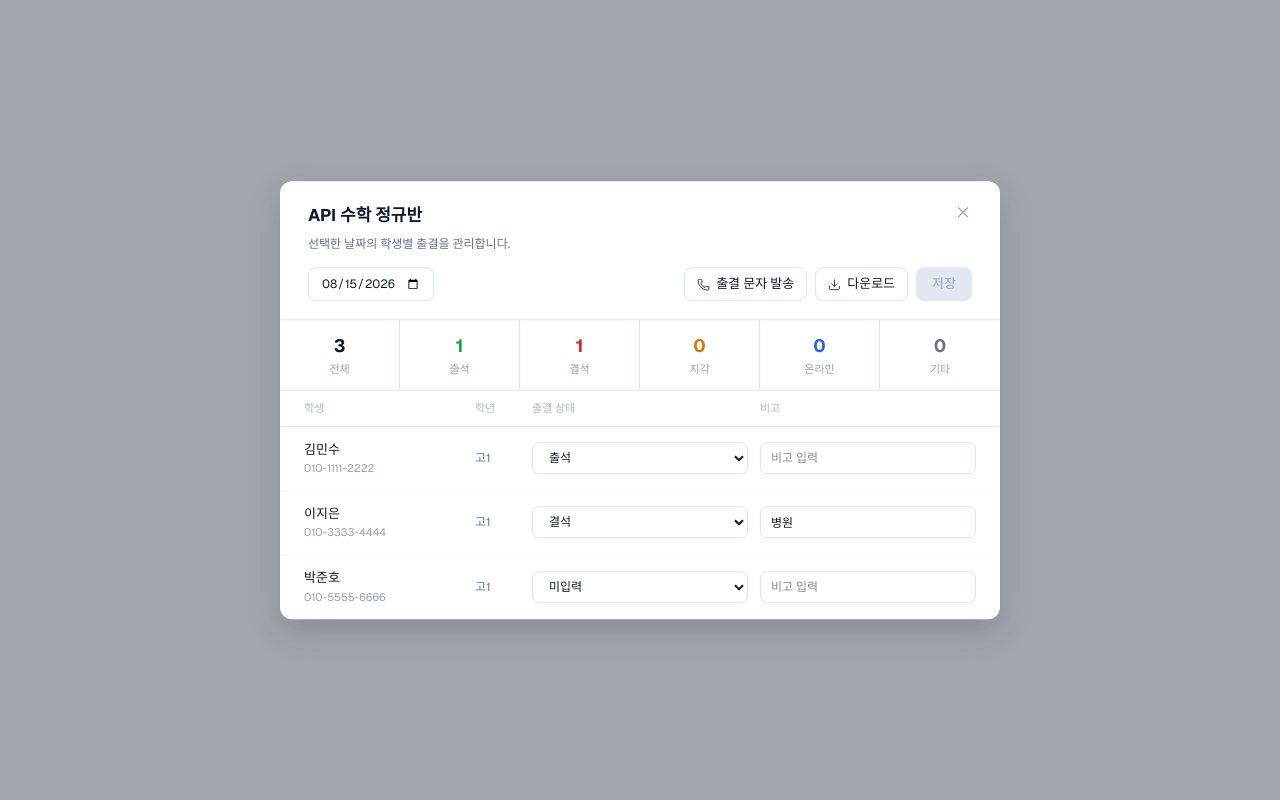
it: ViewRollbookModal › 값을 원본으로 되돌리면 저장 대상에서 제외한다
Select "지각" in the dropdown named "김민수 출결 상태" at (640, 458), box 532,442 -> 748,474
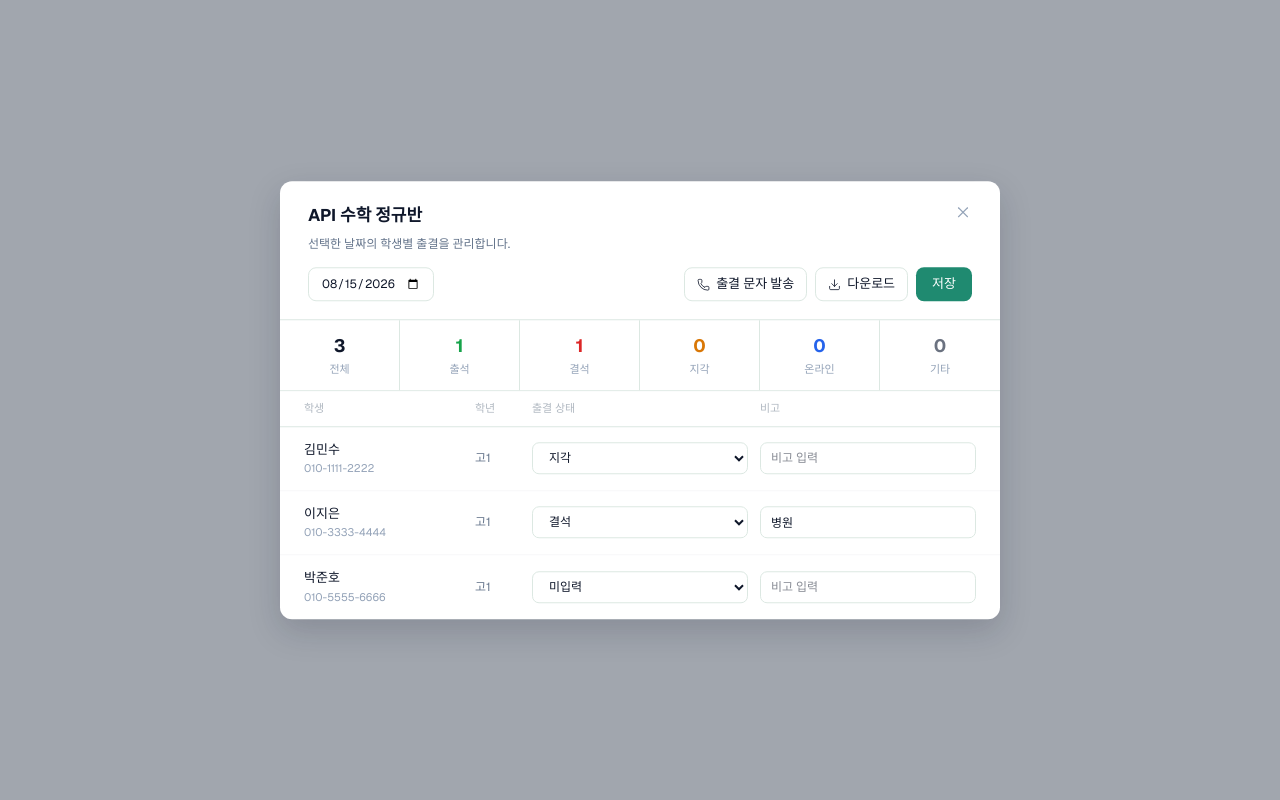
Expected: the button "저장" is enabled, 916,267 -> 972,301
Select "출석" in the dropdown named "김민수 출결 상태" at (640, 458), box 532,442 -> 748,474
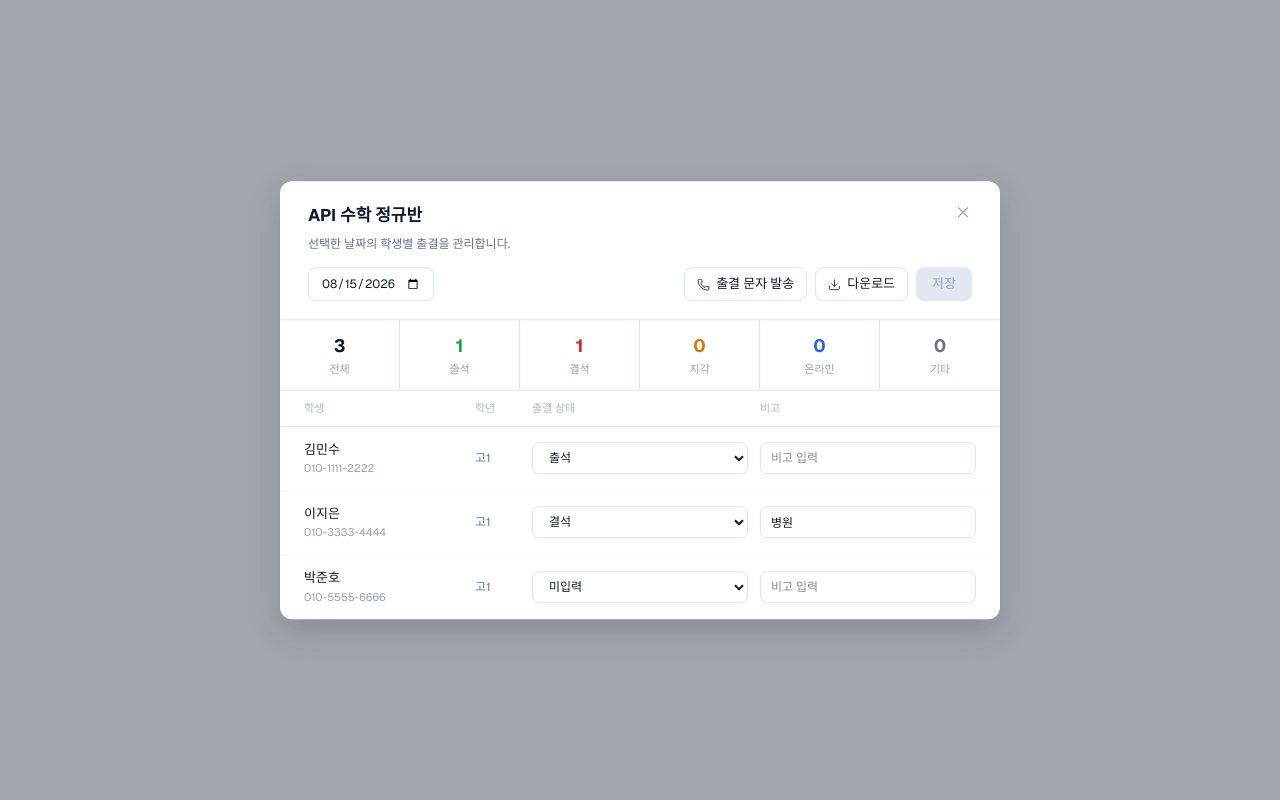
Expected: the button "저장" is disabled, 916,267 -> 972,301
